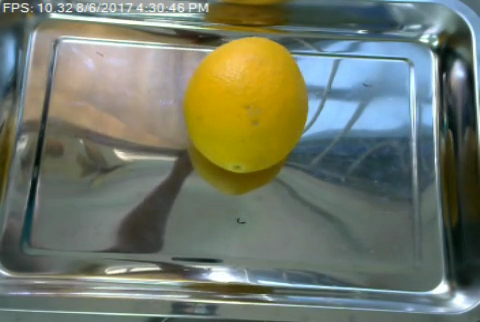Orange: (184, 37, 309, 172)
